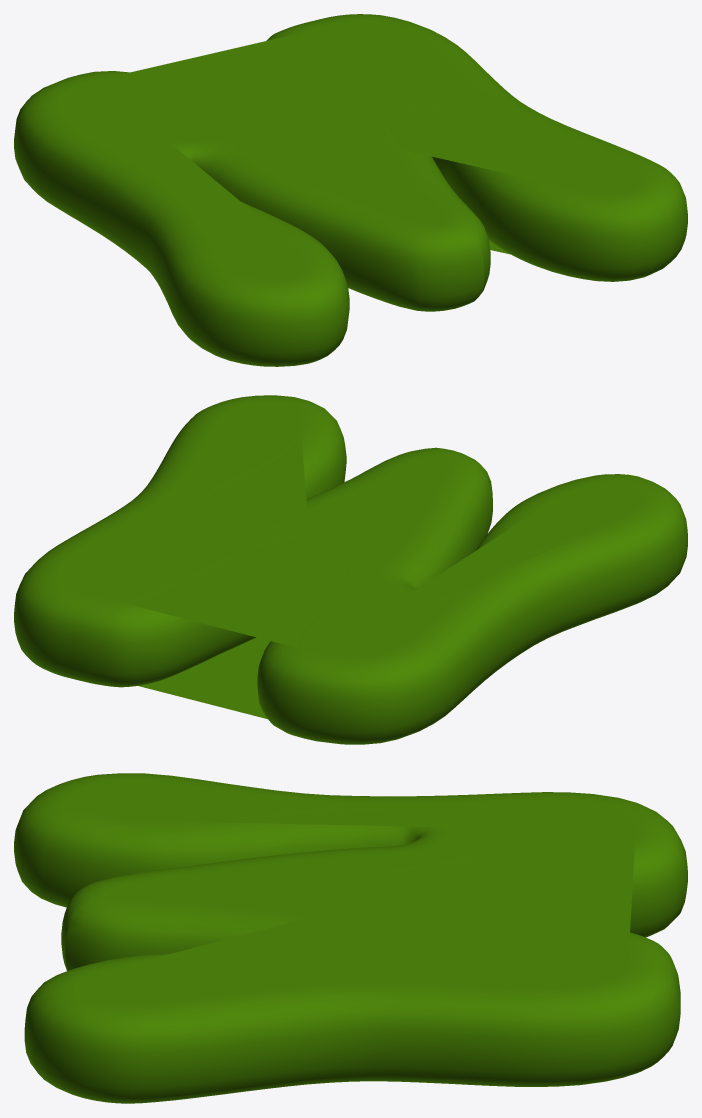
3 views of the same model, one above another, from view 1: azimuth 30°, elevation 25°; view 2: azimuth 150°, elevation 25°; view 3: azimuth 270°, elevation 25° (orthographic). The views are drawn at different scales.
Visible parts, largest first — view 1: Curve.014; view 2: Curve.014; view 3: Curve.014.
Part boxes in pixels (<box>): Curve.014: <box>14,14,687,366</box>; Curve.014: <box>14,395,687,744</box>; Curve.014: <box>14,773,687,1103</box>.
Size of the model in its own units: 318 by 49.63 by 338.
1 material, 1 textured.
